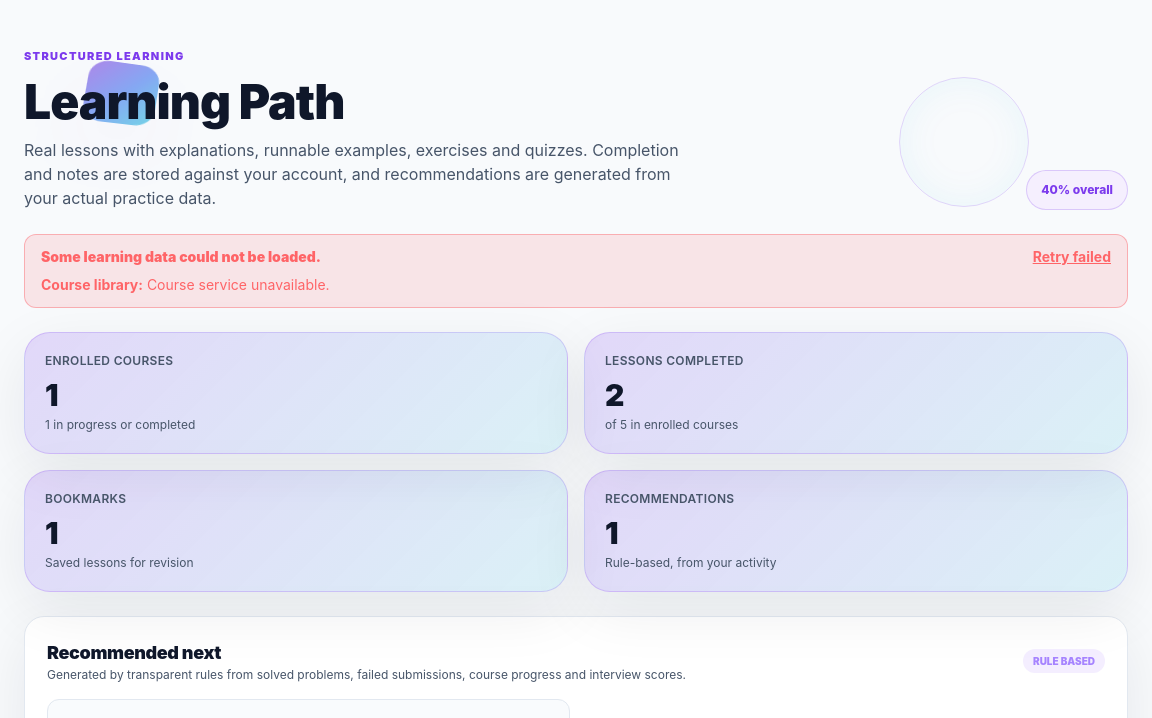
Test: LearningPath page › keeps successful learning data when one request fails and retries only the failure
Step 1. Click the button "Retry failed" → (1072, 257), box [1033,247,1111,267]
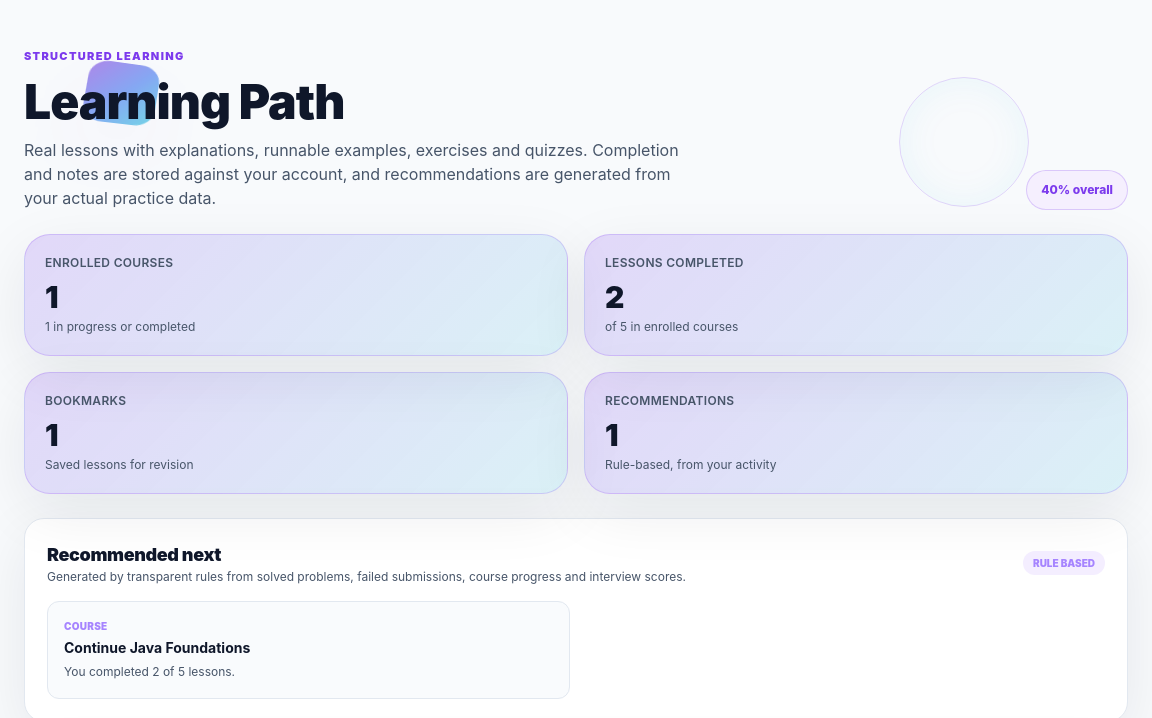
Expected: the text "Java Foundations" is shown, [64,639,250,656]
Result: the text "Course service unavailable." is gone
